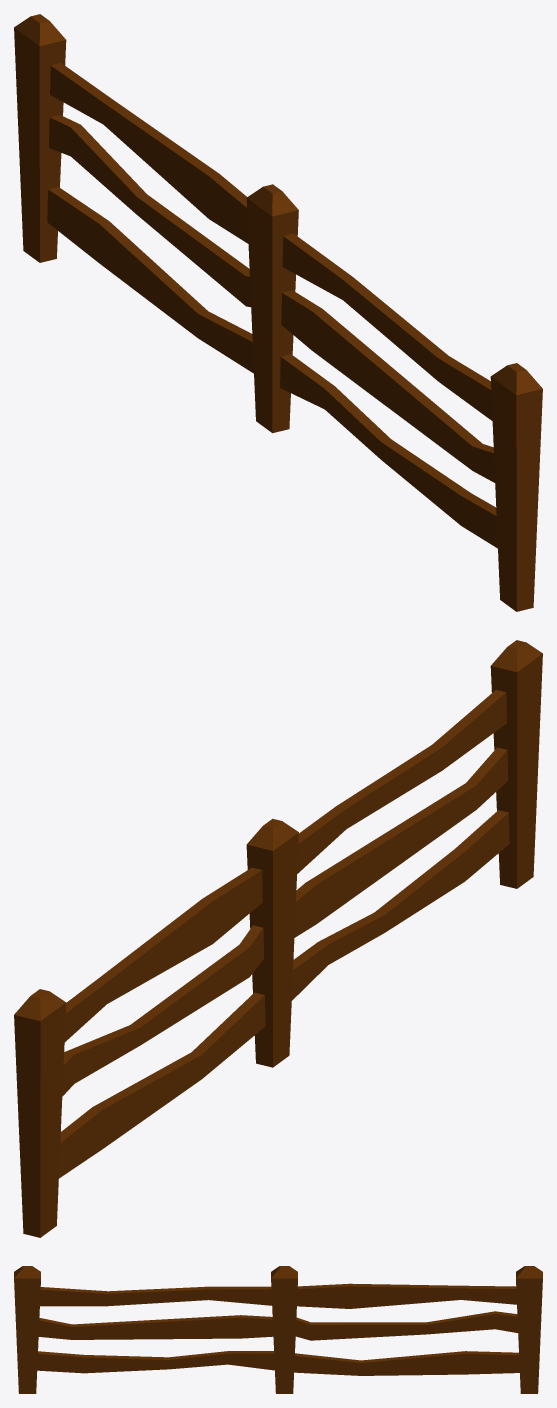
Rendered from Fence.fbx.
3 renders of one model, top to bottom at view 1: azimuth 30°, elevation 25°; view 2: azimuth 150°, elevation 25°; view 3: azimuth 270°, elevation 25°, orthographic. The views are drawn at different scales.
Parts seen in each view (by area): view 1: pCube20; view 2: pCube20; view 3: pCube20.
Part boxes in pixels (<box>): pCube20: <box>14,14,542,611</box>; pCube20: <box>14,640,542,1237</box>; pCube20: <box>14,1266,542,1393</box>.
Size of the model in its own units: 12.55 by 107 by 412.
